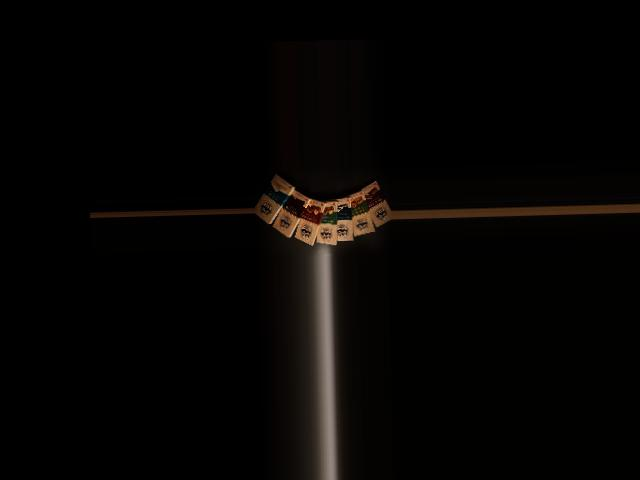chocolate: (254, 170, 296, 226)
